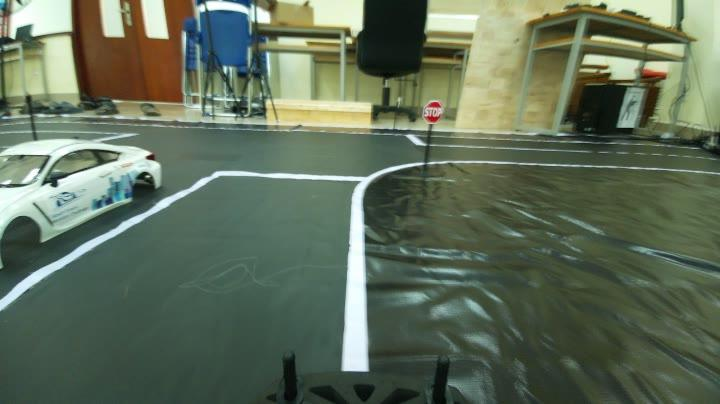car: (2, 132, 160, 258)
stop: (419, 99, 447, 125)
